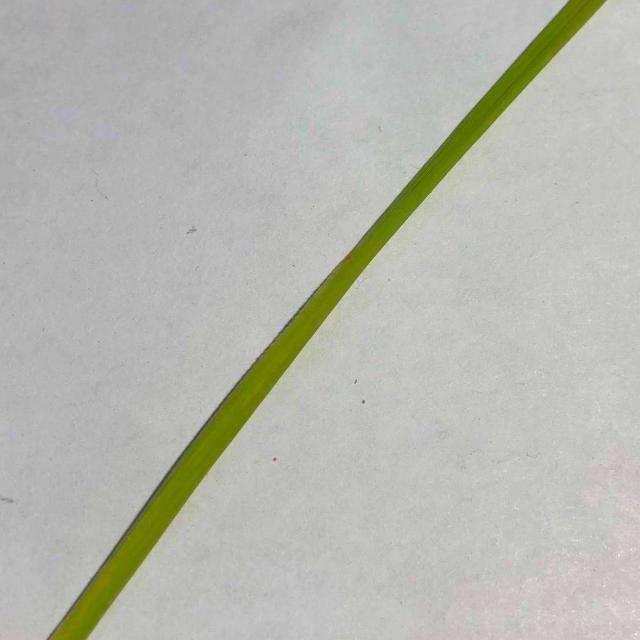brownspots: (335, 250, 356, 266)
